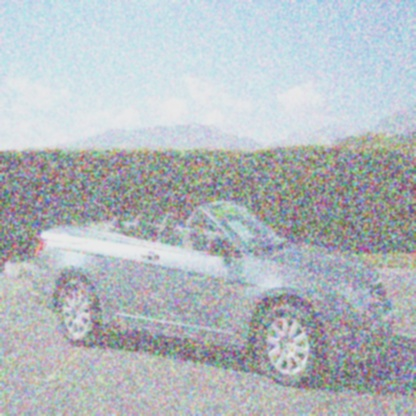Vehicle: (30, 199, 395, 385)
